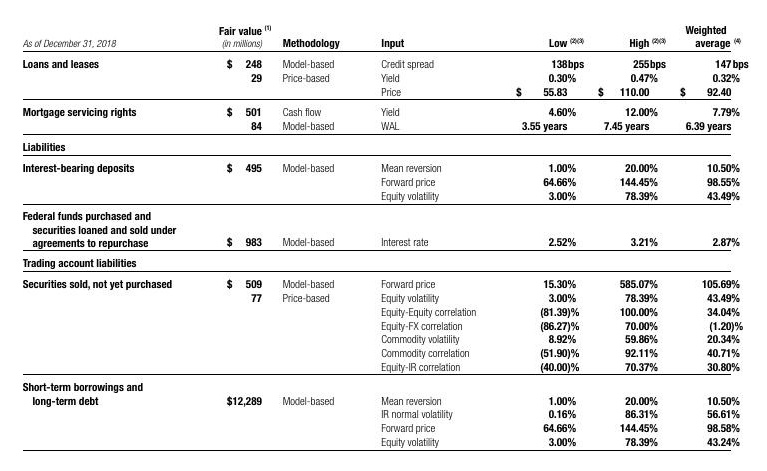table: (0, 0, 767, 471)
